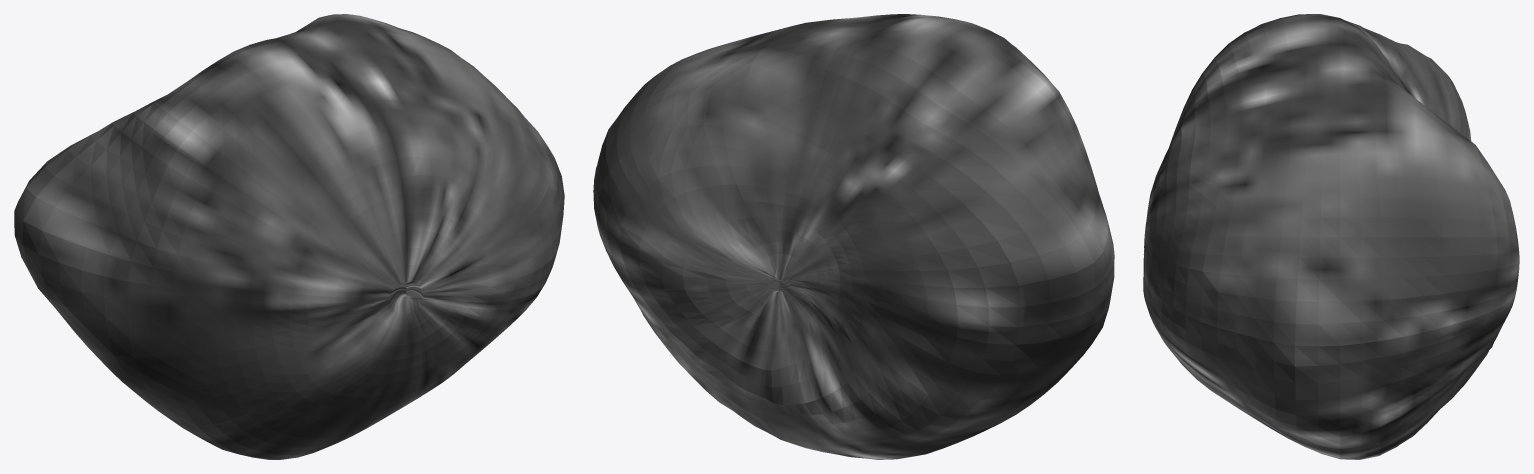
File: deimos.obj
3 renders of one model, left to right at view 1: azimuth 30°, elevation 25°; view 2: azimuth 150°, elevation 25°; view 3: azimuth 270°, elevation 25°, orthographic. The views are drawn at different scales.
Parts seen in each view (by area): view 1: Mesh_deimos; view 2: Mesh_deimos; view 3: Mesh_deimos.
Part boxes in pixels (left/top/right/bottom): Mesh_deimos: left=14, top=14, right=564, bottom=459; Mesh_deimos: left=593, top=14, right=1114, bottom=459; Mesh_deimos: left=1143, top=14, right=1519, bottom=459.
Size of the model in its own units: 2 by 1.58 by 1.38.
1 material, 1 textured.
